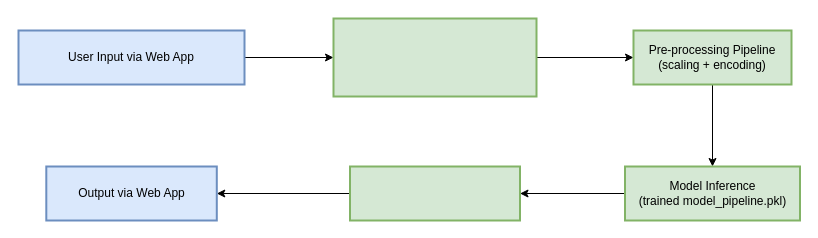
This 818x238 diagram has some shape labels left out. The shapes that lost their labels are listed below. From the top down, each one's centre as x and y in pixels, then its label:
point 434,57: API Request via Flask
point 434,193: Post-processing
